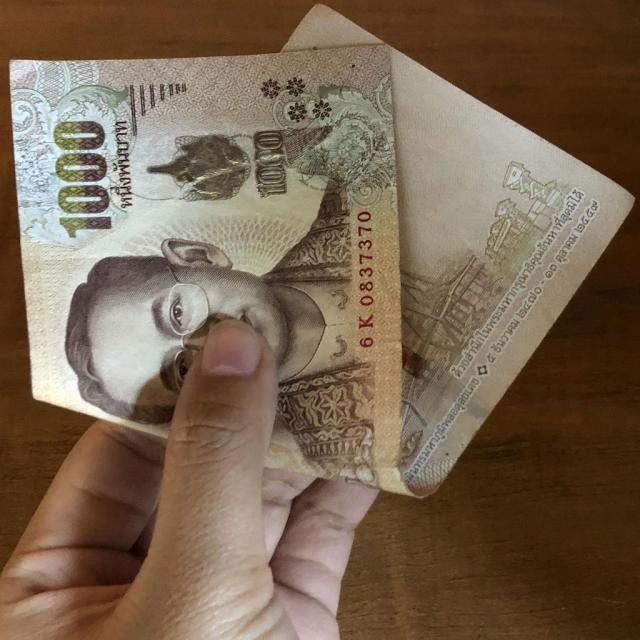THAI1000: (9, 5, 636, 502)
